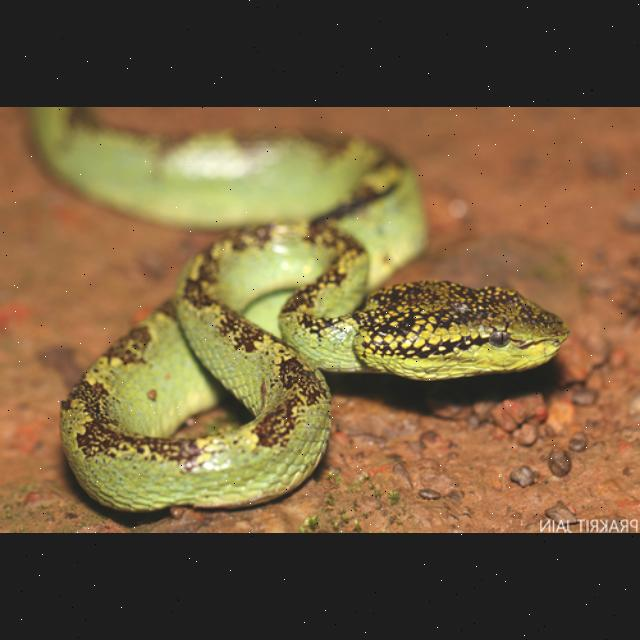snake: (12, 108, 580, 518)
